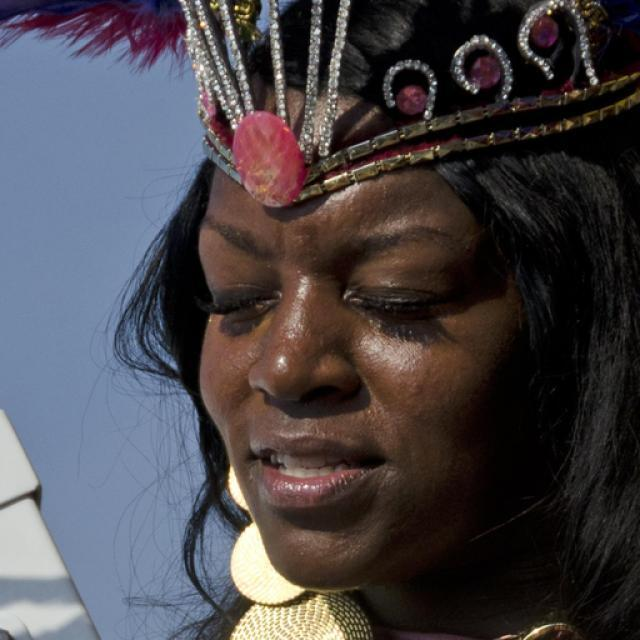sad: (398, 84, 427, 114)
